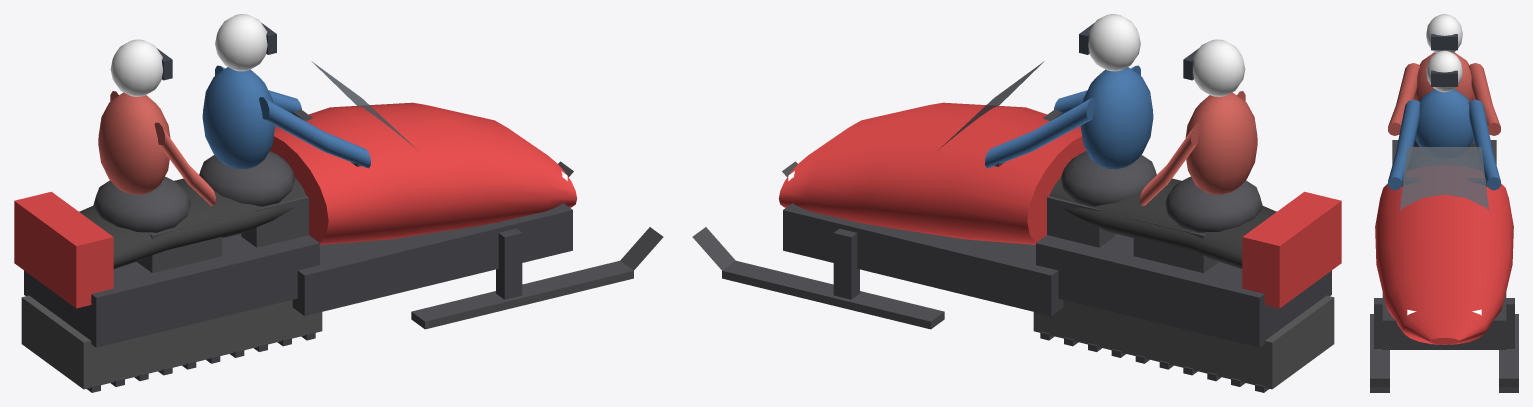
Rendered from sled.glb.
The picture shows the model from 3 angles, left to right: view 1: azimuth 30°, elevation 25°; view 2: azimuth 150°, elevation 25°; view 3: azimuth 270°, elevation 25°; orthographic projection. The views are drawn at different scales.
Visible parts, largest first — view 1: sled; view 2: sled; view 3: sled.
Part boxes in pixels (left/top/right/bottom): sled: left=14, top=14, right=663, bottom=392; sled: left=692, top=14, right=1341, bottom=392; sled: left=1370, top=14, right=1518, bottom=392.
Bounding box in the file's own units: 3.8 × 1.98 × 1.2.
